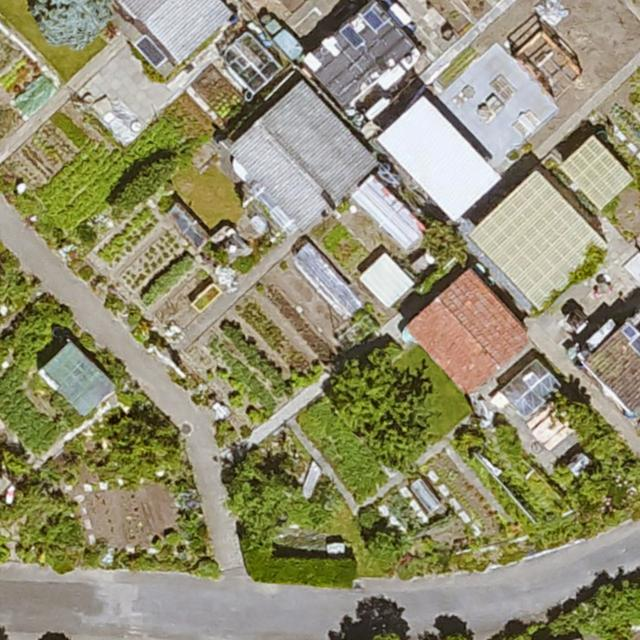tree: (229, 453, 302, 541), (330, 347, 398, 435), (374, 381, 431, 469), (550, 391, 595, 432), (341, 623, 406, 640)
